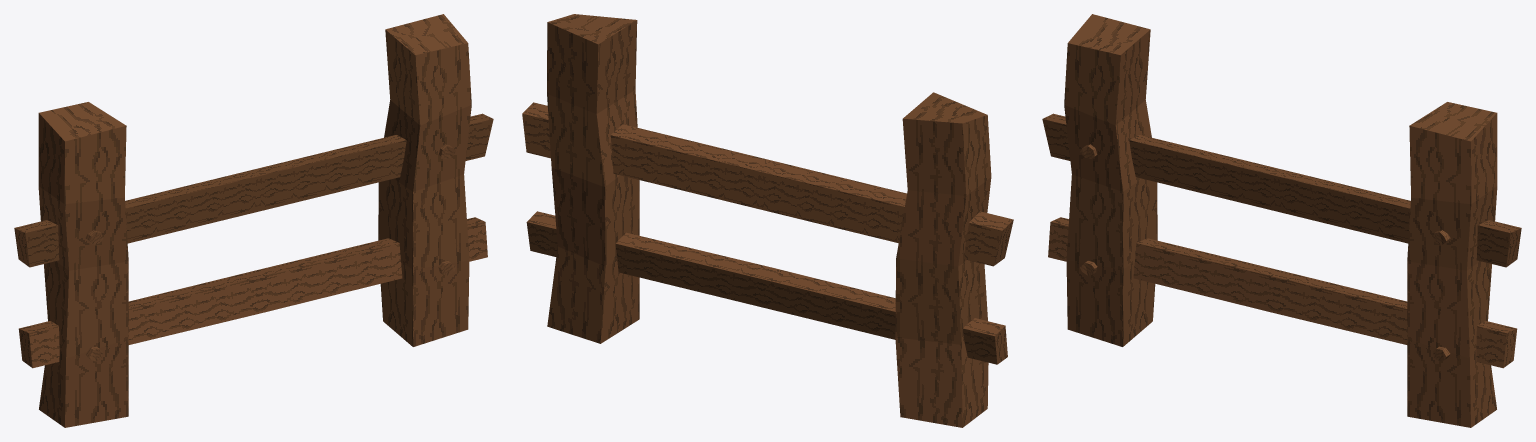
The model's file is gard-de-lemn.fbx.
The picture shows the model from 3 angles, left to right: view 1: azimuth 30°, elevation 25°; view 2: azimuth 150°, elevation 25°; view 3: azimuth 330°, elevation 25°; orthographic projection. The views are drawn at different scales.
Parts seen in each view (by area): view 1: Pillar, Plank_1, Plank_2, Cuie; view 2: Pillar, Plank_1, Plank_2; view 3: Pillar, Plank_1, Plank_2, Cuie.
Boxes of the visible parts, left/top/right/bottom form: Pillar: left=38, top=14, right=471, bottom=427; Plank_1: left=14, top=113, right=493, bottom=267; Plank_2: left=18, top=217, right=487, bottom=368; Cuie: left=85, top=144, right=455, bottom=361; Pillar: left=547, top=14, right=991, bottom=427; Plank_1: left=522, top=102, right=1013, bottom=266; Plank_2: left=526, top=211, right=1007, bottom=364; Pillar: left=1064, top=14, right=1497, bottom=427; Plank_1: left=1042, top=113, right=1521, bottom=267; Plank_2: left=1048, top=217, right=1517, bottom=368; Cuie: left=1080, top=144, right=1450, bottom=361.
Size of the model in its own units: 1467 by 888 by 195.
